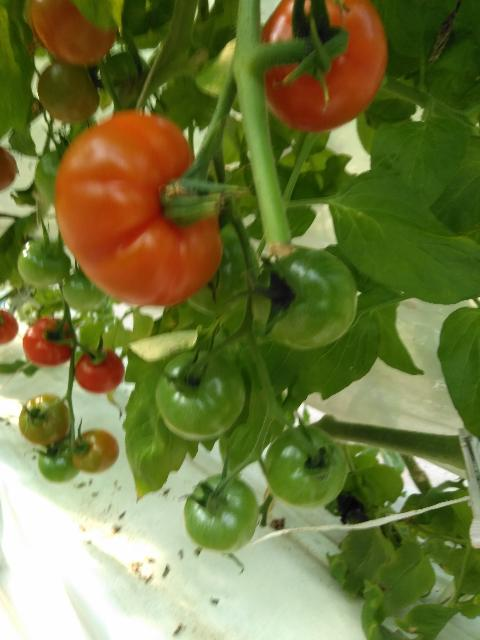l_fully_ripened: (55, 110, 222, 306), (261, 0, 389, 132), (22, 317, 77, 368), (74, 347, 125, 395), (0, 148, 17, 192), (0, 309, 19, 346)
l_green: (251, 247, 358, 349), (156, 350, 245, 441), (264, 426, 348, 508), (185, 225, 260, 315), (184, 473, 259, 552), (37, 61, 99, 123), (17, 239, 71, 287), (62, 269, 108, 311), (39, 438, 81, 484), (35, 150, 68, 205)
l_half_ripened: (30, 0, 117, 65), (19, 392, 70, 447), (71, 428, 119, 473)
